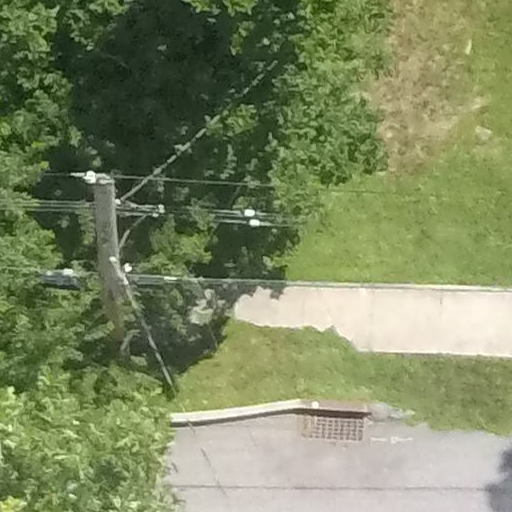drain: (292, 392, 375, 449)
